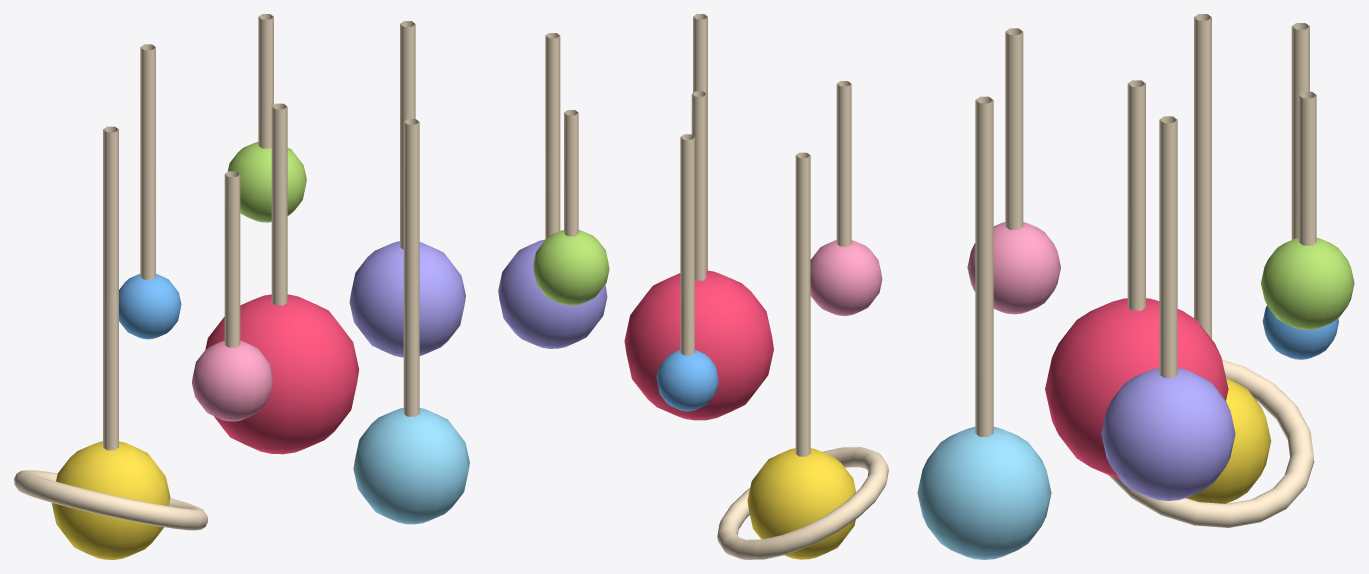
Rendered from Mobile.fbx.
The picture shows the model from 3 angles, left to right: view 1: azimuth 30°, elevation 25°; view 2: azimuth 150°, elevation 25°; view 3: azimuth 270°, elevation 25°; orthographic projection. The views are drawn at different scales.
Parts seen in each view (by area): view 1: Mobile02, Mobile01, Mobile05, Mobile04, Mobile03, Mobile07, Mobile06; view 2: Mobile02, Mobile01, Mobile04, Mobile03, Mobile06, Mobile07, Mobile05; view 3: Mobile05, Mobile04, Mobile01, Mobile02, Mobile06, Mobile03, Mobile07.
Boxes of the visible parts, left/top/right/bottom form: Mobile02: left=14, top=126, right=207, bottom=559; Mobile01: left=205, top=103, right=359, bottom=454; Mobile05: left=353, top=119, right=469, bottom=524; Mobile04: left=349, top=21, right=465, bottom=357; Mobile03: left=192, top=171, right=272, bottom=421; Mobile07: left=119, top=44, right=181, bottom=339; Mobile06: left=227, top=14, right=306, bottom=222; Mobile02: left=717, top=152, right=888, bottom=559; Mobile01: left=624, top=91, right=773, bottom=420; Mobile04: left=498, top=33, right=607, bottom=348; Mobile03: left=810, top=81, right=882, bottom=315; Mobile06: left=533, top=110, right=609, bottom=305; Mobile07: left=656, top=134, right=718, bottom=411; Mobile05: left=693, top=14, right=707, bottom=270; Mobile05: left=917, top=96, right=1051, bottom=559; Mobile04: left=1101, top=116, right=1235, bottom=500; Mobile01: left=1045, top=80, right=1228, bottom=478; Mobile02: left=1109, top=14, right=1314, bottom=527; Mobile06: left=1261, top=91, right=1354, bottom=329; Mobile03: left=967, top=28, right=1060, bottom=314; Mobile07: left=1262, top=23, right=1338, bottom=359.
Size of the model in its own units: 3.4 by 3.71 by 2.72.
